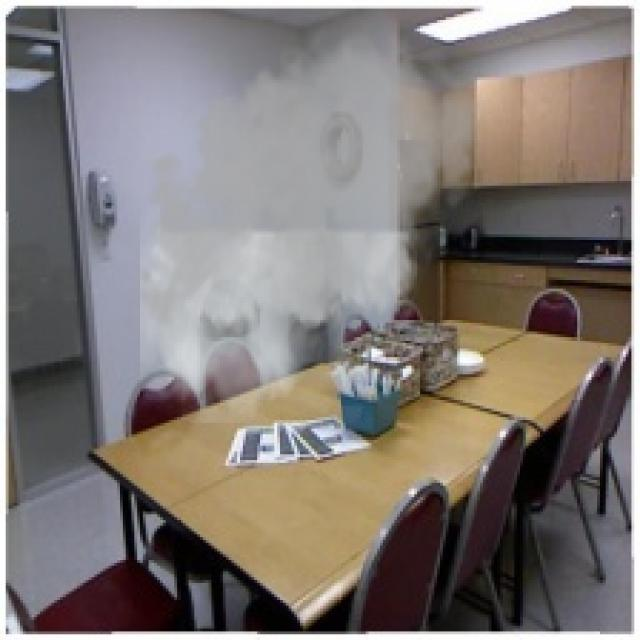smoke: (126, 17, 486, 423)
